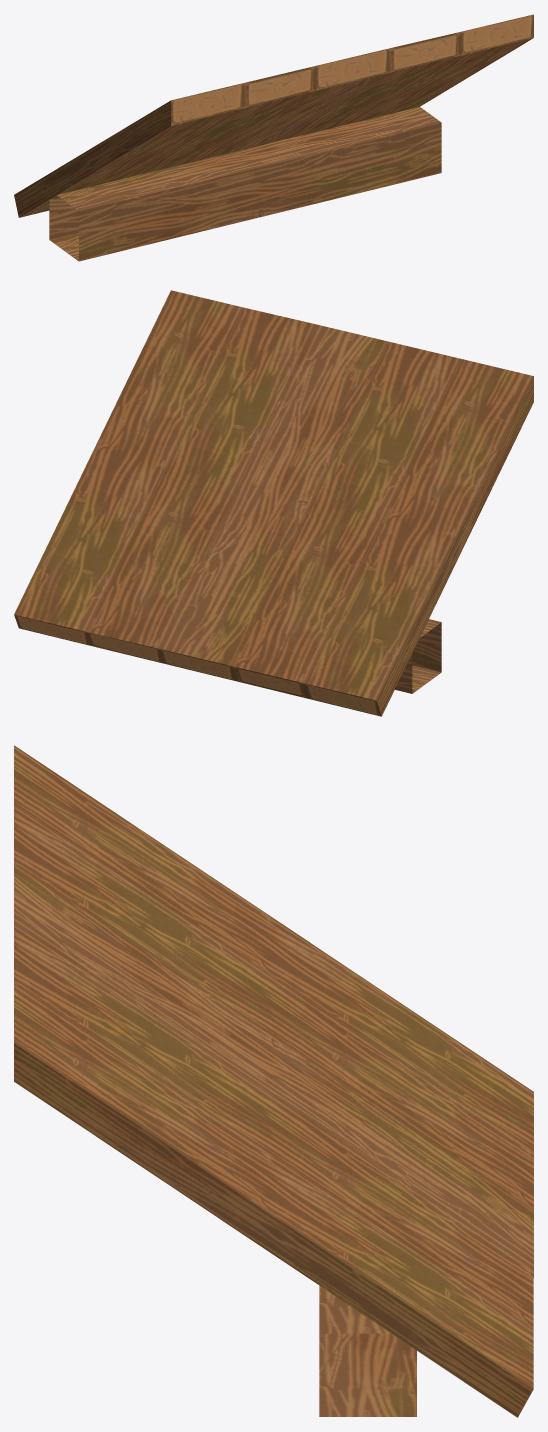
The model's file is Roof_Wooden_2x1_Center_Mirror.gltf.
3 views of the same model, one above another, from view 1: azimuth 30°, elevation 25°; view 2: azimuth 150°, elevation 25°; view 3: azimuth 270°, elevation 25° (orthographic). The views are drawn at different scales.
Visible parts, largest first — view 1: Roof_Wooden_2x1_Center_Mirror; view 2: Roof_Wooden_2x1_Center_Mirror; view 3: Roof_Wooden_2x1_Center_Mirror.
Boxes of the visible parts, x1,y1,x2,y2 form: Roof_Wooden_2x1_Center_Mirror: (14, 14, 533, 261); Roof_Wooden_2x1_Center_Mirror: (14, 290, 533, 716); Roof_Wooden_2x1_Center_Mirror: (14, 745, 533, 1417).
Bounding box in the file's own units: 2 × 1.21 × 1.5.
2 materials, 2 textured.
